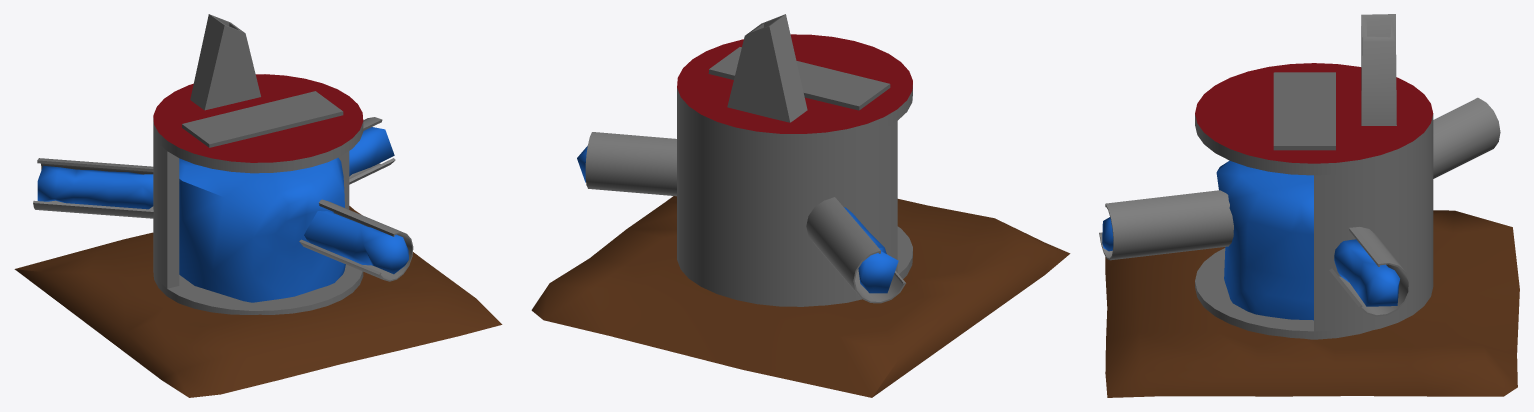
The model's file is Lumbrera_Generica_001_v001.glb.
3 renders of one model, left to right at view 1: azimuth 30°, elevation 25°; view 2: azimuth 150°, elevation 25°; view 3: azimuth 270°, elevation 25°, orthographic. The views are drawn at different scales.
Visible parts, largest first — view 1: lumbrera_Generica_001_v001; view 2: lumbrera_Generica_001_v001; view 3: lumbrera_Generica_001_v001.
Boxes of the visible parts, x1=… form: lumbrera_Generica_001_v001: x1=14, y1=14, x2=502, y2=397; lumbrera_Generica_001_v001: x1=531, y1=14, x2=1070, y2=397; lumbrera_Generica_001_v001: x1=1099, y1=14, x2=1519, y2=397.
Bounding box in the file's own units: 1.32 × 1.01 × 1.32.
